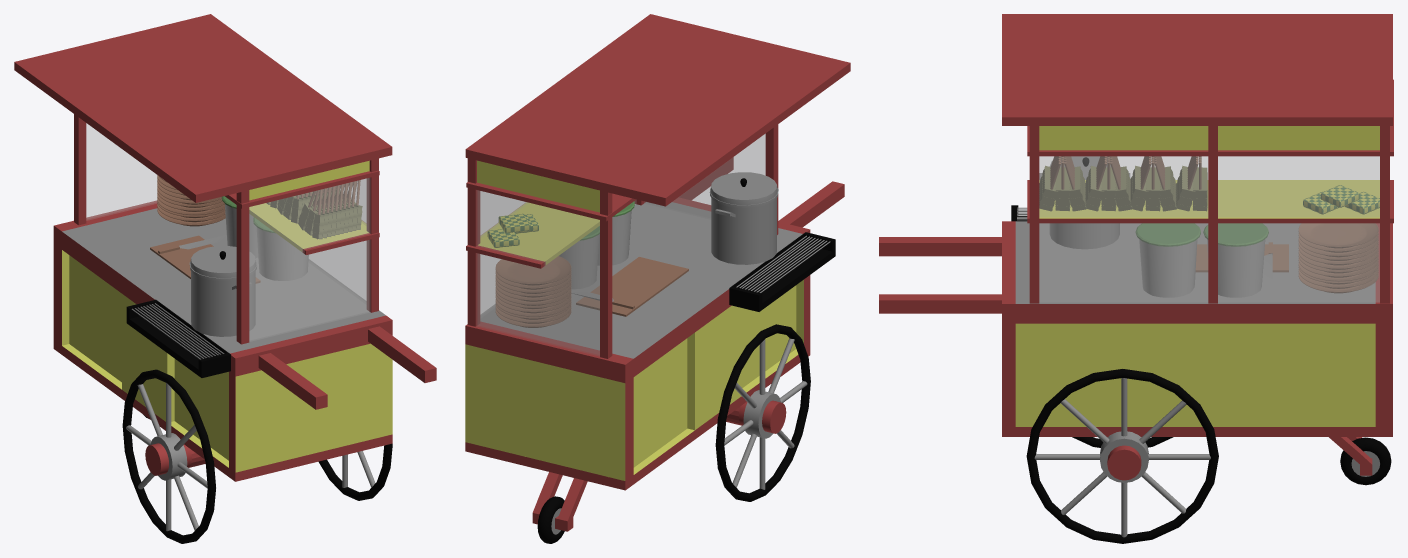
The model's file is pushcart.fbx.
3 views of the same model, side by side, from view 1: azimuth 30°, elevation 25°; view 2: azimuth 150°, elevation 25°; view 3: azimuth 270°, elevation 25° (orthographic). The views are drawn at different scales.
Parts seen in each view (by area): view 1: Pushcart; view 2: Pushcart; view 3: Pushcart.
Boxes of the visible parts, x1=… form: Pushcart: x1=14, y1=14, x2=436, y2=543; Pushcart: x1=465, y1=14, x2=850, y2=543; Pushcart: x1=879, y1=14, x2=1393, y2=543.
Size of the model in its own units: 19.29 by 32.54 by 36.03.
